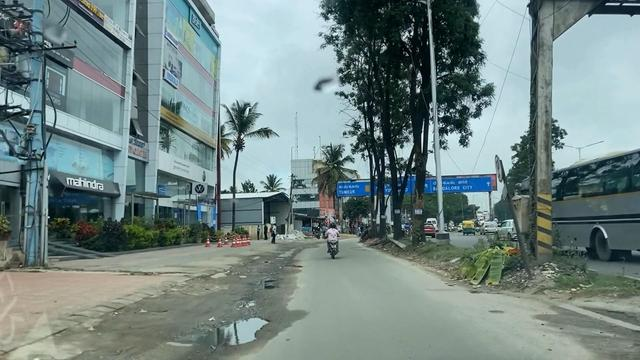RoadDamages: (188, 300, 285, 354), (231, 264, 297, 297)
